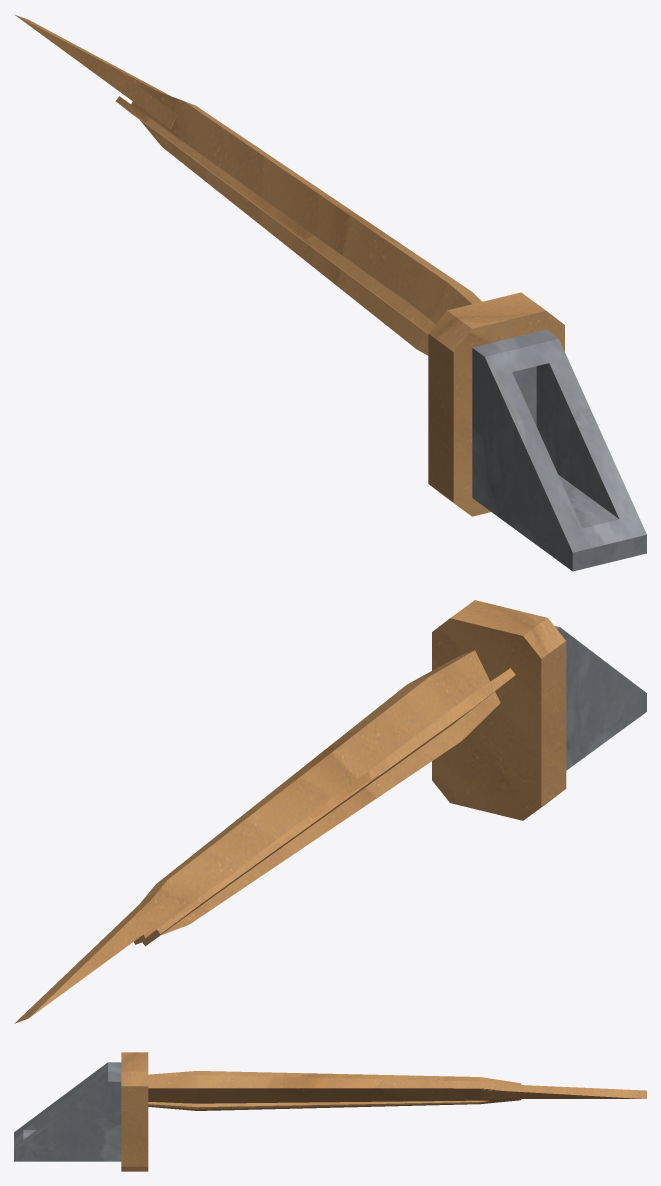
Rendered from Bayonet.fbx.
3 views of the same model, one above another, from view 1: azimuth 30°, elevation 25°; view 2: azimuth 150°, elevation 25°; view 3: azimuth 270°, elevation 25° (orthographic). The views are drawn at different scales.
Parts seen in each view (by area): view 1: mergedBlocks; view 2: mergedBlocks; view 3: mergedBlocks.
Part boxes in pixels (left/top/right/bottom): mergedBlocks: left=14, top=14, right=646, bottom=571; mergedBlocks: left=14, top=600, right=646, bottom=1023; mergedBlocks: left=14, top=1052, right=646, bottom=1171.
Size of the model in its own units: 1.08 by 1.74 by 9.98.
3 materials, 3 textured.
